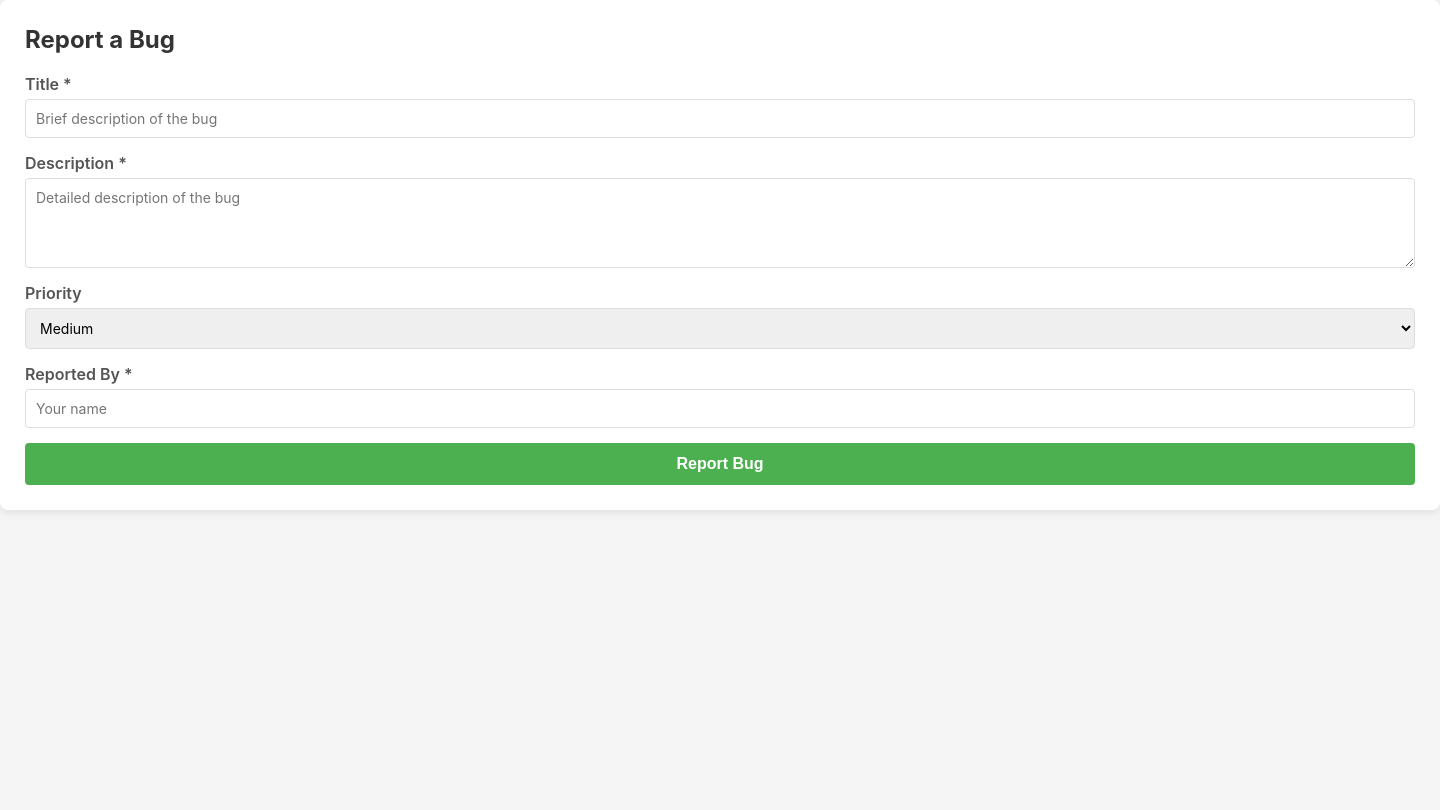
Test case: BugForm Component › shows validation error for short description
Type "Short" into the text box labelled "Description *". click: (720, 223)
box: [25,178,1415,268]
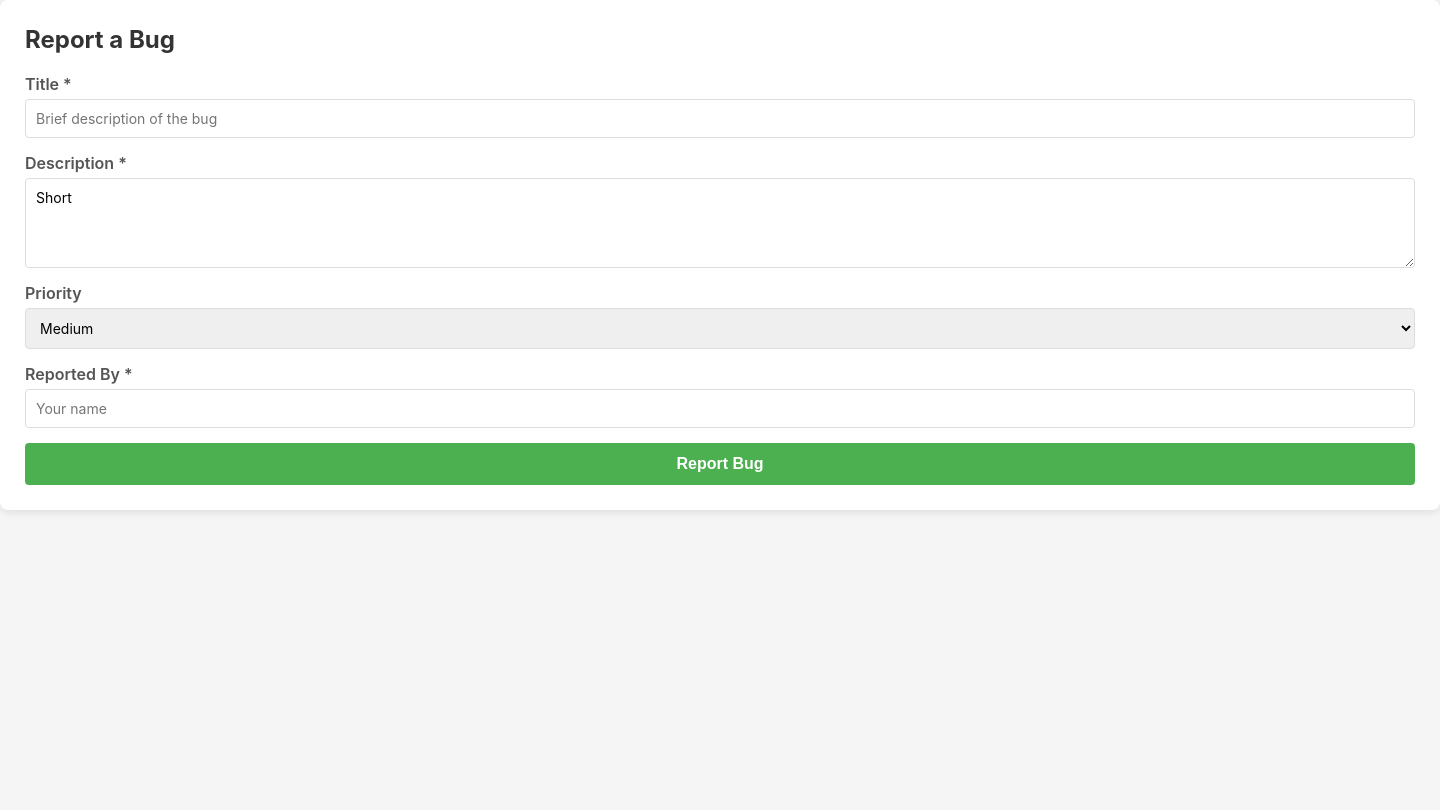
Click the button "Report Bug". click: (720, 464)
box: [25,443,1415,485]
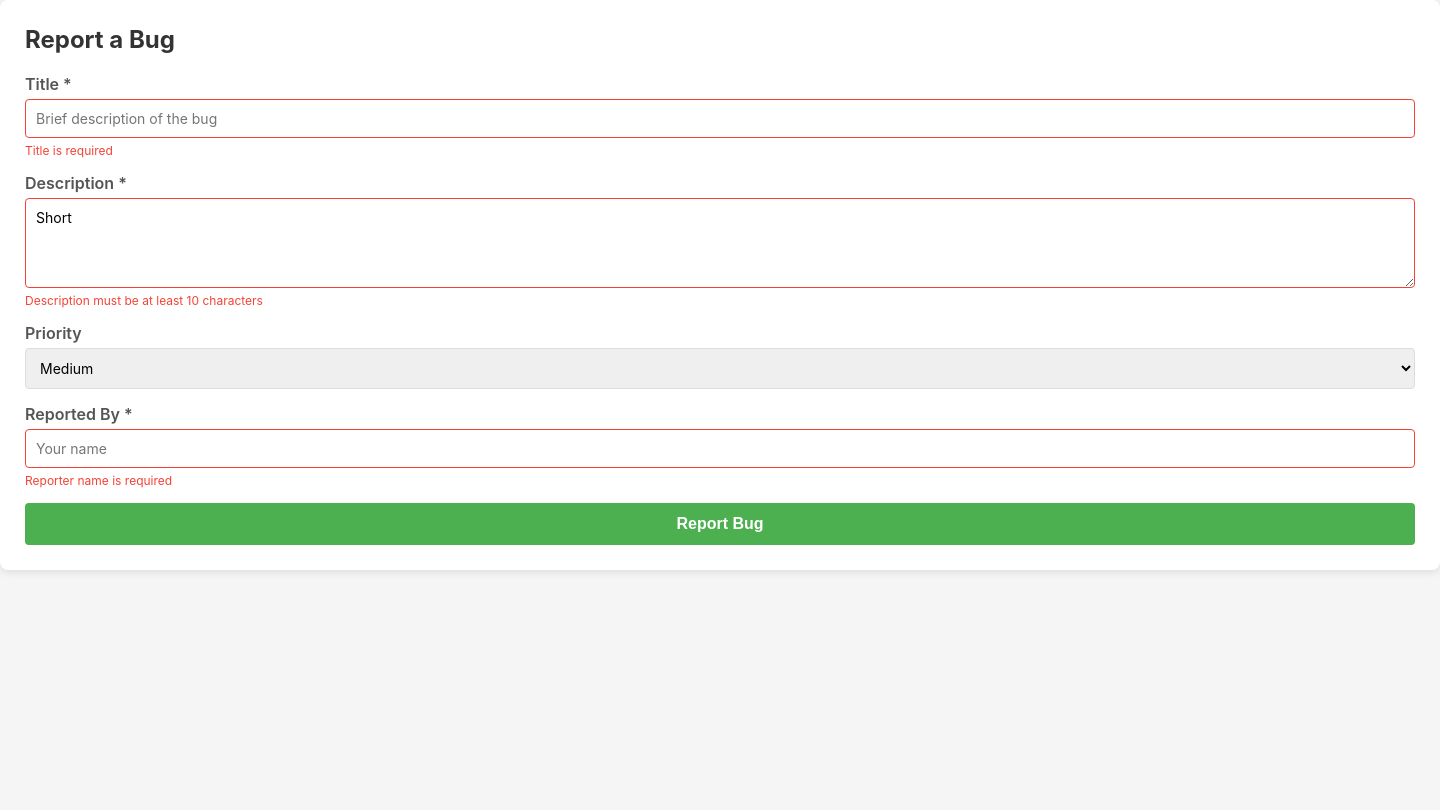
Now the text "Description must be at least 10 characters" is shown, box [25,293,263,308]
